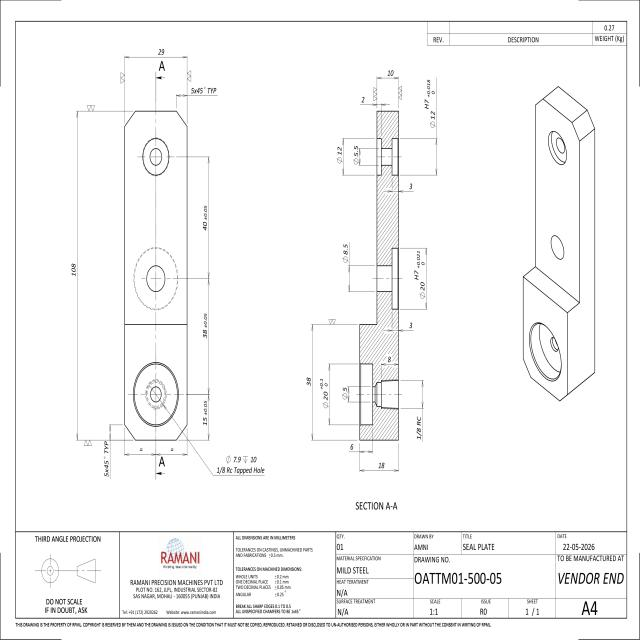dimension: (69, 109, 81, 445), (422, 76, 440, 180), (200, 155, 213, 281), (304, 322, 317, 442), (215, 452, 266, 478), (201, 276, 212, 396), (411, 246, 430, 312), (122, 48, 189, 64), (319, 362, 334, 427), (122, 446, 188, 458), (340, 240, 354, 294), (414, 379, 426, 442), (102, 422, 114, 481), (358, 460, 400, 475), (334, 136, 348, 178), (201, 393, 212, 442), (178, 85, 218, 98), (382, 181, 415, 196), (359, 94, 391, 109), (374, 66, 401, 83), (382, 321, 416, 334), (348, 442, 375, 456), (378, 354, 400, 370), (353, 141, 365, 169), (340, 385, 353, 404)
